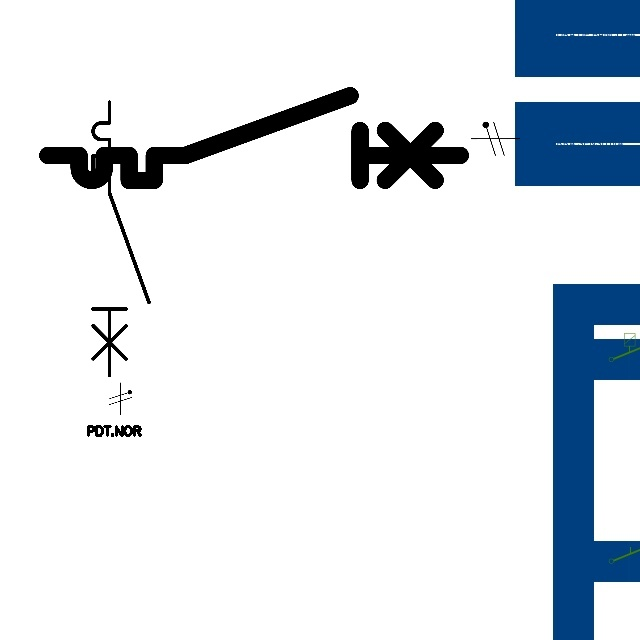interruptor_termomagnetico: (37, 85, 471, 191), (86, 95, 156, 382)
